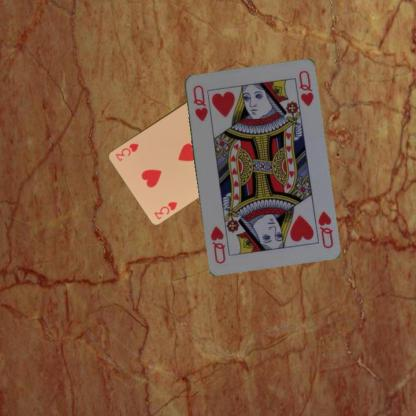3h: (152, 198, 178, 221)
Qh: (190, 82, 209, 123), (315, 209, 334, 250)
